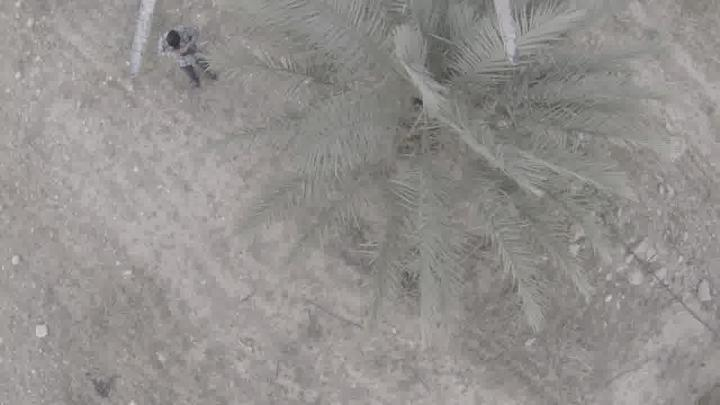Date-Palm-Crown: (310, 0, 562, 246)
